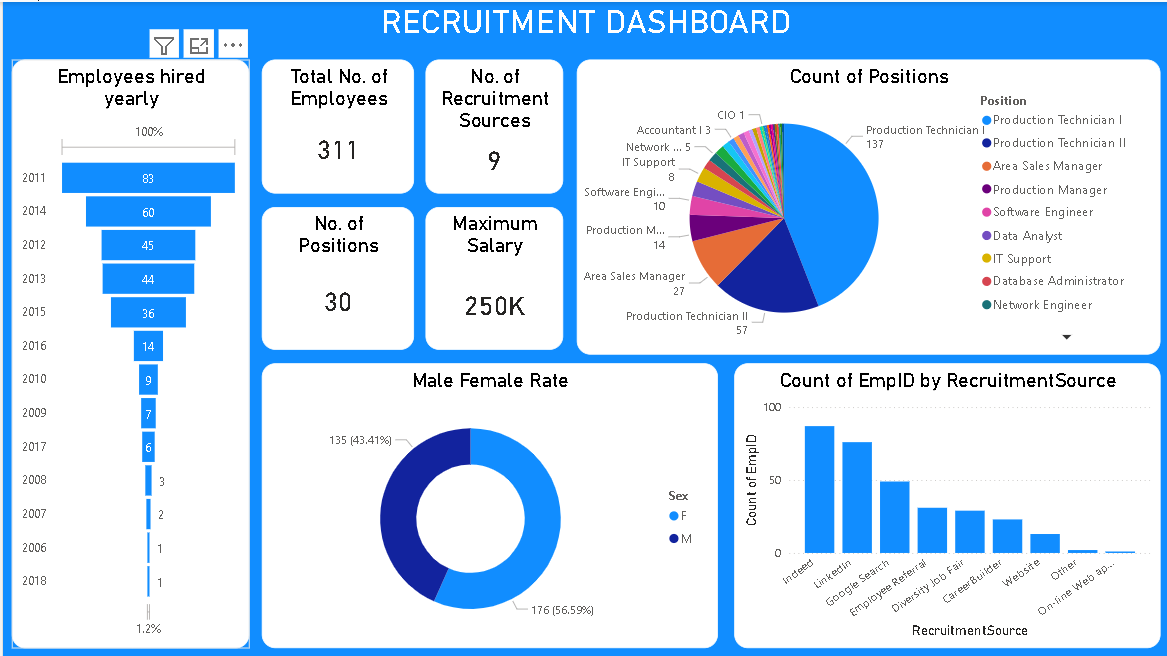

The page's visual inventory and layout, read from the dashboard file:
{"tool":"powerbi","page":{"name":"Page 1","canvas":[1280,720],"ordinal":0},"visuals":[{"type":"textbox","title":"RECRUITMENT DASHBOARD","box":[9.6,0,1261.1,49.4],"z":0},{"type":"funnel","title":"Employees hired yearly","fields":{"Category":["HRDataset_v14.Year of Hire"],"Y":["CountNonNull(HRDataset_v14.DateofHire)"]},"box":[9.6,63.1,260.7,646.3],"z":1000},{"type":"columnChart","fields":{"Category":["HRDataset_v14.RecruitmentSource"],"Y":["CountNonNull(HRDataset_v14.EmpID)"]},"box":[802.7,396.6,467.9,312.9],"z":2000},{"type":"pieChart","title":"Count of Positions","fields":{"Category":["HRDataset_v14.Position"],"Y":["CountNonNull(HRDataset_v14.PositionID)"]},"box":[629.8,63.1,640.8,323.8],"z":3000},{"type":"donutChart","title":"Male Female Rate","fields":{"Category":["HRDataset_v14.Sex"],"Y":["CountNonNull(HRDataset_v14.Sex)"]},"box":[284,396.6,500.9,312.9],"z":4000},{"type":"card","title":"Total No. of Employees","fields":{"Values":["CountNonNull(HRDataset_v14.EmpID)"]},"box":[284,63.1,167.4,146.8],"z":5000},{"type":"card","title":"Maximum Salary","fields":{"Values":["Max(HRDataset_v14.Salary)"]},"box":[463.8,225,150.9,156.4],"z":6000},{"type":"card","title":"No. of Positions","fields":{"Values":["Count(HRDataset_v14.PositionID)"]},"box":[284,225,167.4,156.4],"z":7000},{"type":"card","title":"No. of Recruitment Sources","fields":{"Values":["Count(HRDataset_v14.RecruitmentSource)"]},"box":[463.8,63.1,150.9,146.8],"z":8000}]}

Visuals, with their boxes in screenshot pixels (x1, y1, x2, y2):
"RECRUITMENT DASHBOARD" textbox: locate(12, 9, 1146, 54)
"Employees hired yearly" funnel: locate(12, 66, 246, 647)
columnChart - HRDataset_v14.RecruitmentSource x CountNonNull(HRDataset_v14.EmpID): locate(725, 366, 1145, 647)
"Count of Positions" pieChart: locate(569, 66, 1145, 357)
"Male Female Rate" donutChart: locate(258, 366, 709, 647)
"Total No. of Employees" card: locate(258, 66, 409, 198)
"Maximum Salary" card: locate(420, 211, 556, 352)
"No. of Positions" card: locate(258, 211, 409, 352)
"No. of Recruitment Sources" card: locate(420, 66, 556, 198)
